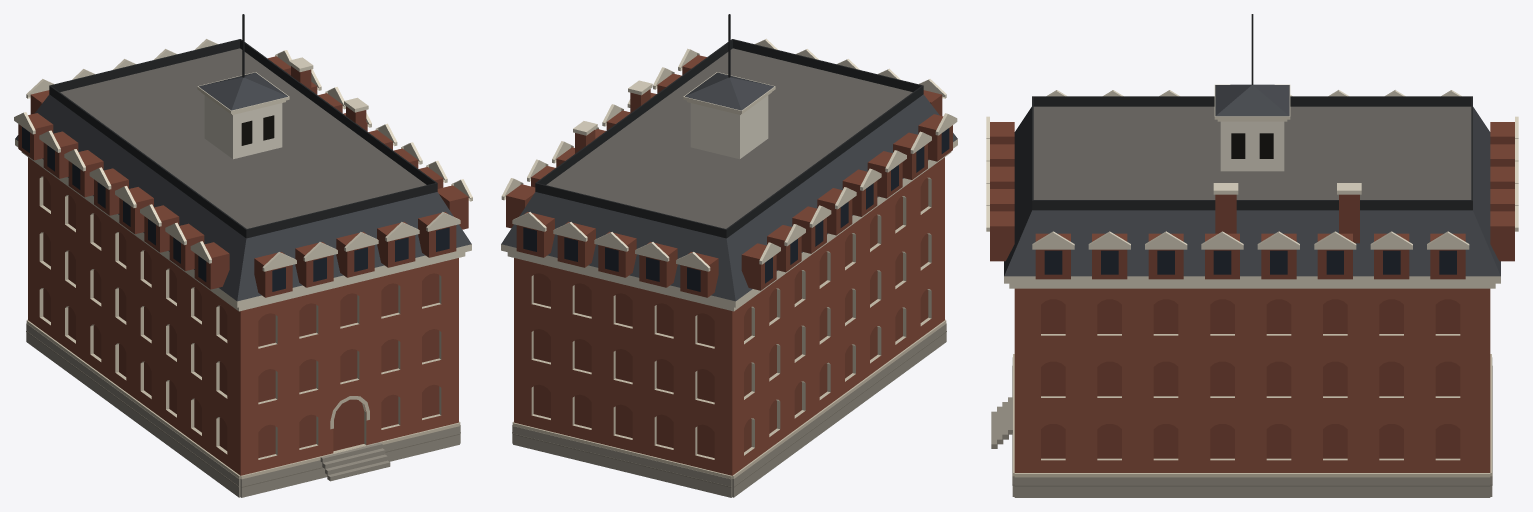
File: arkansas-baptist-college-main.glb
3 renders of one model, left to right at view 1: azimuth 30°, elevation 25°; view 2: azimuth 150°, elevation 25°; view 3: azimuth 270°, elevation 25°, orthographic. The views are drawn at different scales.
Visible parts, largest first — view 1: arkansas_brick, arkansas_brick2, arkansas_roof, arkansas_slate, arkansas_trim, arkansas_base, arkansas_iron, arkansas_stone, arkansas_wood, arkansas_glass, arkansas_joint, arkansas_shadow; view 2: arkansas_brick, arkansas_brick2, arkansas_roof, arkansas_slate, arkansas_trim, arkansas_base, arkansas_iron, arkansas_stone, arkansas_wood, arkansas_glass, arkansas_joint; view 3: arkansas_brick, arkansas_roof, arkansas_brick2, arkansas_slate, arkansas_trim, arkansas_base, arkansas_iron, arkansas_stone, arkansas_glass, arkansas_wood, arkansas_joint, arkansas_shadow.
Boxes of the visible parts, x1,y1,x2,y2 form: arkansas_brick: [28, 157, 458, 475]; arkansas_brick2: [18, 56, 468, 457]; arkansas_roof: [60, 48, 426, 228]; arkansas_slate: [15, 72, 471, 301]; arkansas_trim: [14, 39, 472, 311]; arkansas_base: [26, 323, 460, 497]; arkansas_iron: [49, 14, 437, 238]; arkansas_stone: [26, 176, 460, 479]; arkansas_wood: [204, 95, 282, 159]; arkansas_glass: [22, 127, 449, 291]; arkansas_joint: [26, 331, 460, 487]; arkansas_shadow: [241, 115, 274, 145]; arkansas_brick: [514, 157, 944, 475]; arkansas_brick2: [506, 55, 952, 457]; arkansas_roof: [546, 48, 912, 228]; arkansas_slate: [501, 72, 957, 301]; arkansas_trim: [501, 39, 957, 311]; arkansas_base: [512, 323, 946, 497]; arkansas_iron: [535, 14, 923, 238]; arkansas_stone: [512, 177, 946, 479]; arkansas_wood: [690, 95, 768, 159]; arkansas_glass: [523, 128, 949, 291]; arkansas_joint: [512, 331, 946, 487]; arkansas_brick: [1014, 288, 1490, 472]; arkansas_roof: [1033, 106, 1471, 199]; arkansas_brick2: [990, 122, 1514, 458]; arkansas_slate: [1004, 84, 1500, 276]; arkansas_trim: [986, 84, 1518, 288]; arkansas_base: [991, 357, 1492, 497]; arkansas_iron: [1032, 14, 1472, 210]; arkansas_stone: [1013, 334, 1491, 476]; arkansas_glass: [1044, 250, 1456, 274]; arkansas_wood: [1220, 121, 1284, 171]; arkansas_joint: [1012, 366, 1492, 486]; arkansas_shadow: [1231, 133, 1273, 158].
Size of the model in its own units: 19.2 by 26.5 by 30.2.
